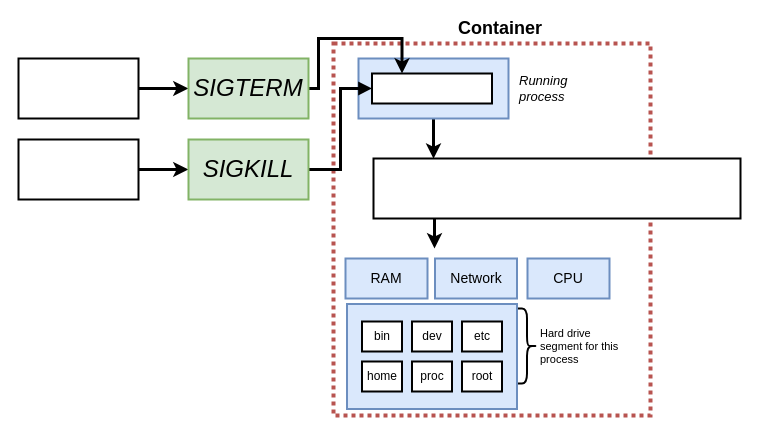
Some shapes in this 758 by 434 pixel diagram are drawn without their labels. Here are the shapes that lost their labels. From the top down, the box of each, then its label:
(17, 57, 139, 119): stop
(370, 72, 492, 104): ping google.com
(17, 138, 139, 200): kill
(372, 157, 741, 219): Kernel
